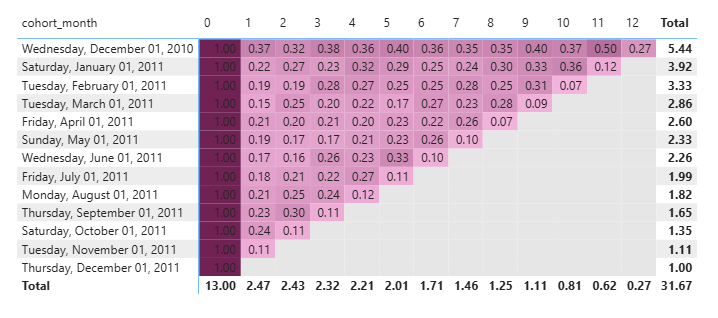

The dashboard page shown, as its layout file describes it:
{"tool":"powerbi","page":{"name":"Page 1","canvas":[1280,720],"ordinal":0},"visuals":[{"type":"pivotTable","fields":{"Columns":["cohort_retention.cohort_index"],"Values":["Sum(cohort_retention.retention_rate)"],"Rows":["cohort_retention.cohort_month"]},"box":[251.1,181.1,776.7,355.4],"z":0}]}

Visuals, with their boxes on the page's 1280x720 design canvas (x1, y1, x2, y2). These are canvas units, not pixel positions in the 718x318 screenshot, which may show the page scaled, cropped or inside an application window:
pivotTable - cohort_retention.cohort_index x Sum(cohort_retention.retention_rate): (251, 181, 1028, 536)
